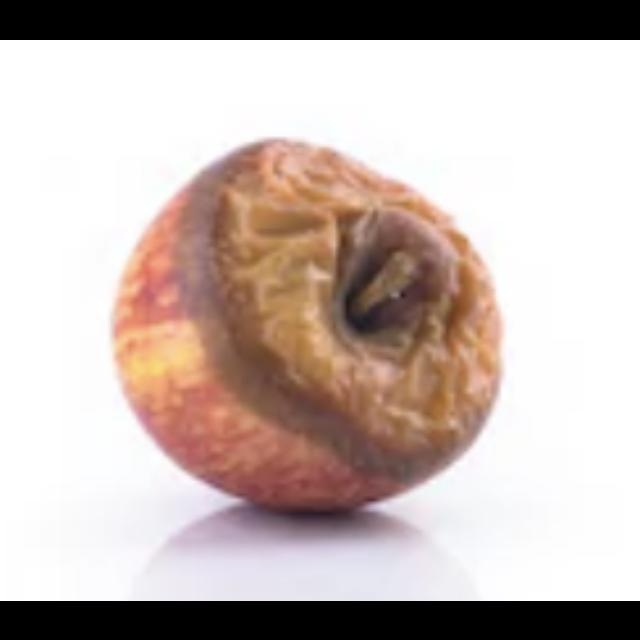Apel Tidak Segar: (105, 130, 509, 522)
